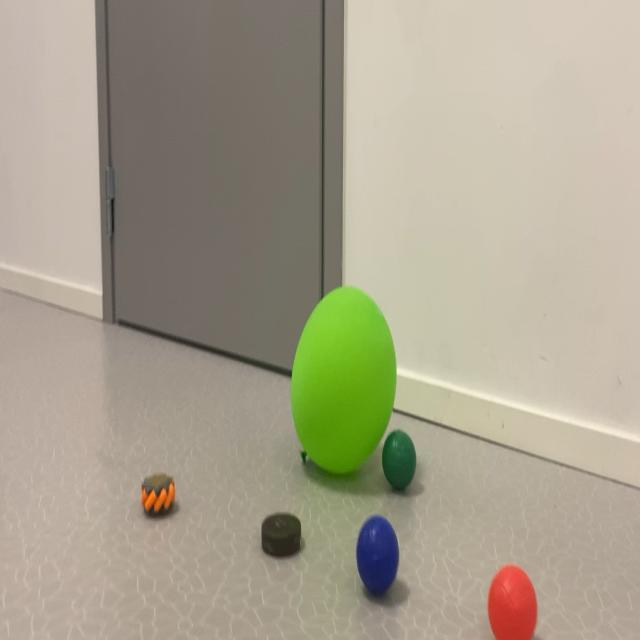blue ball: (348, 522, 405, 596)
green ball: (383, 436, 416, 492)
red ball: (490, 571, 537, 637)
